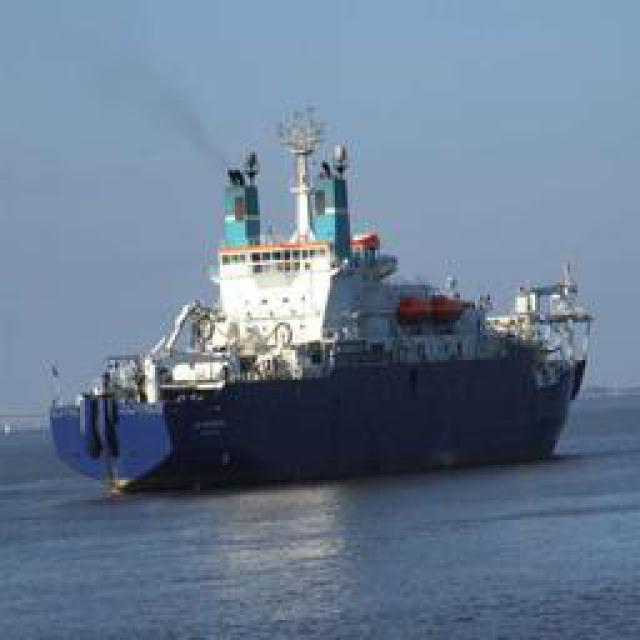Ship: (40, 110, 598, 488)
